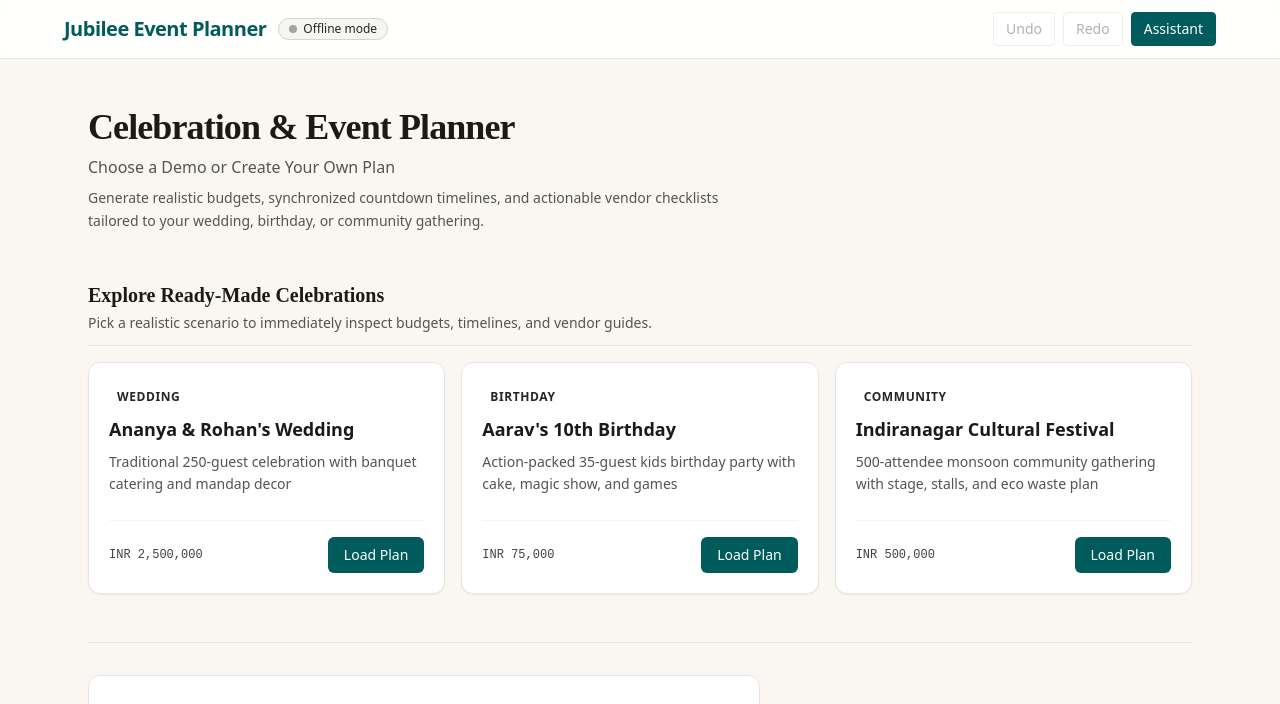
Scenario: App Shell › toggles the assistant drawer when the assistant button is clicked
This screenshot has width=1280, height=704.
Expected: the dialog "Celebration AI Assistant" is not shown
What coordinates should you click on to do the following:
click the button with aria-label "Open planning assistant"
I would click on:
 (1173, 29)
Its box is [1131,12,1216,46].
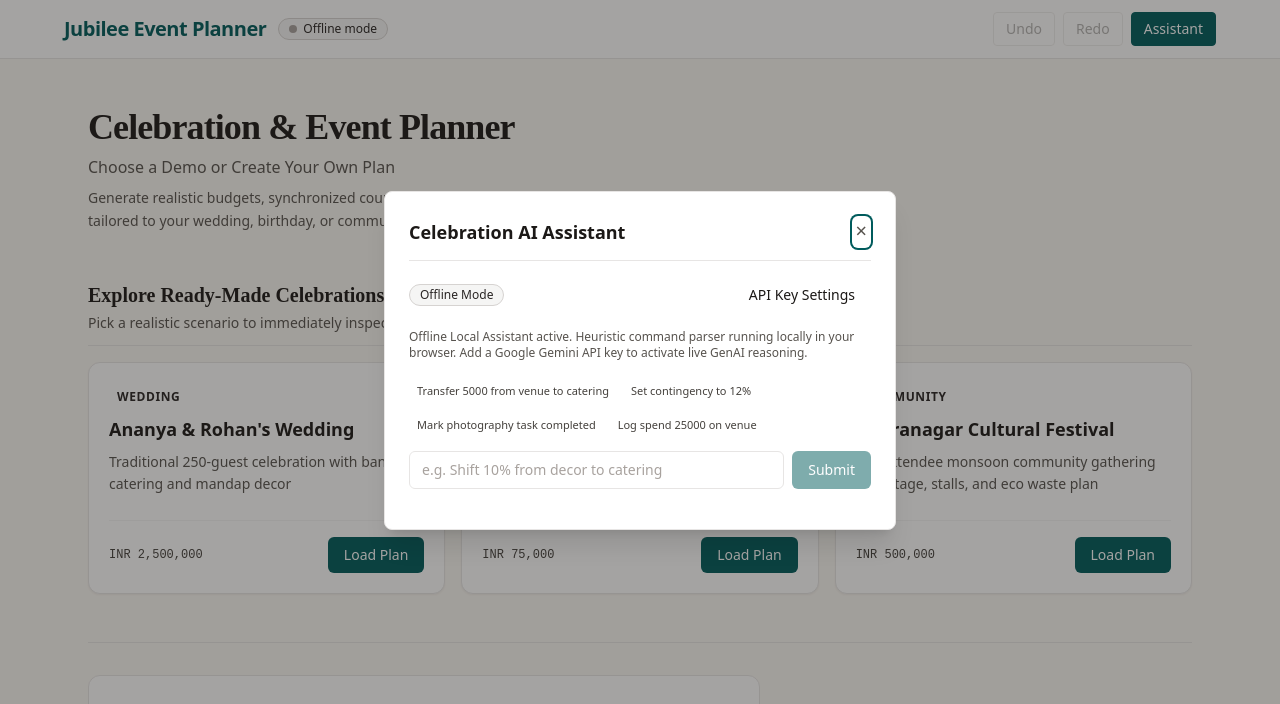
Result: the dialog "Celebration AI Assistant" is shown at [384,190,896,530]
What coordinates should you click on to do the following:
click the button named "Close dialog"
I would click on:
 (861, 232)
Its box is [852,216,871,248].
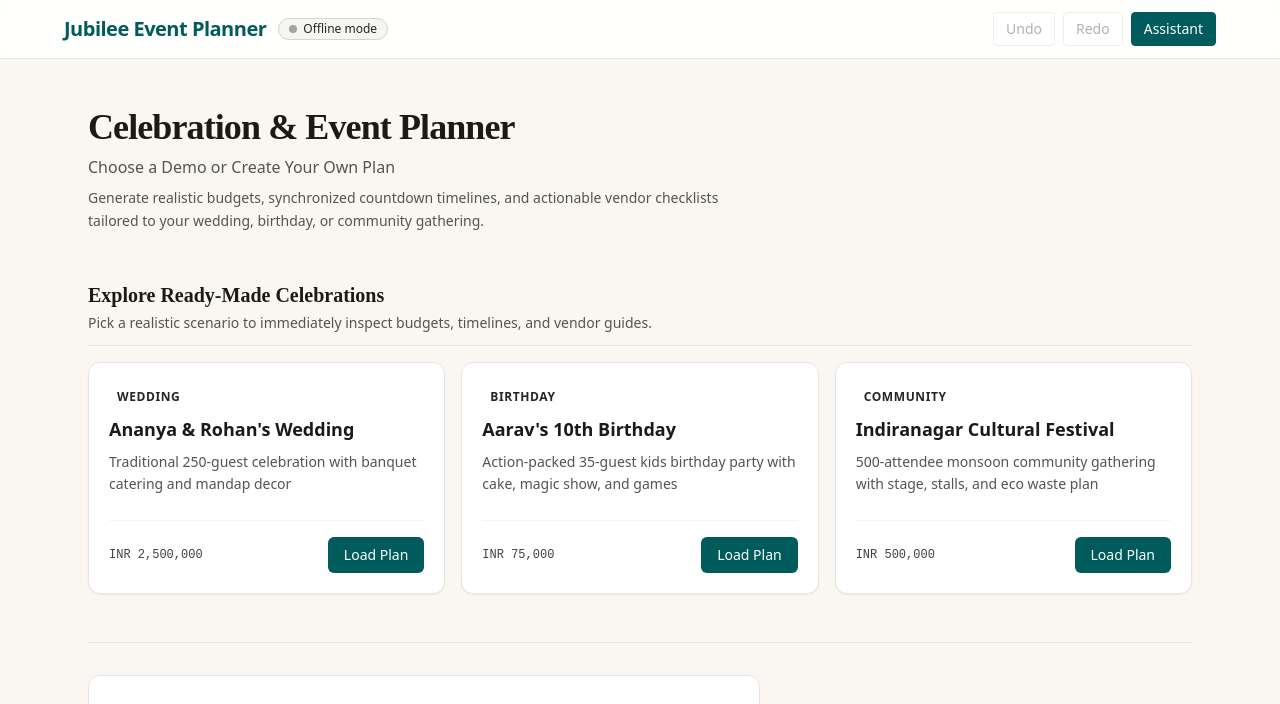
Result: the heading "Celebration AI Assistant" is gone
